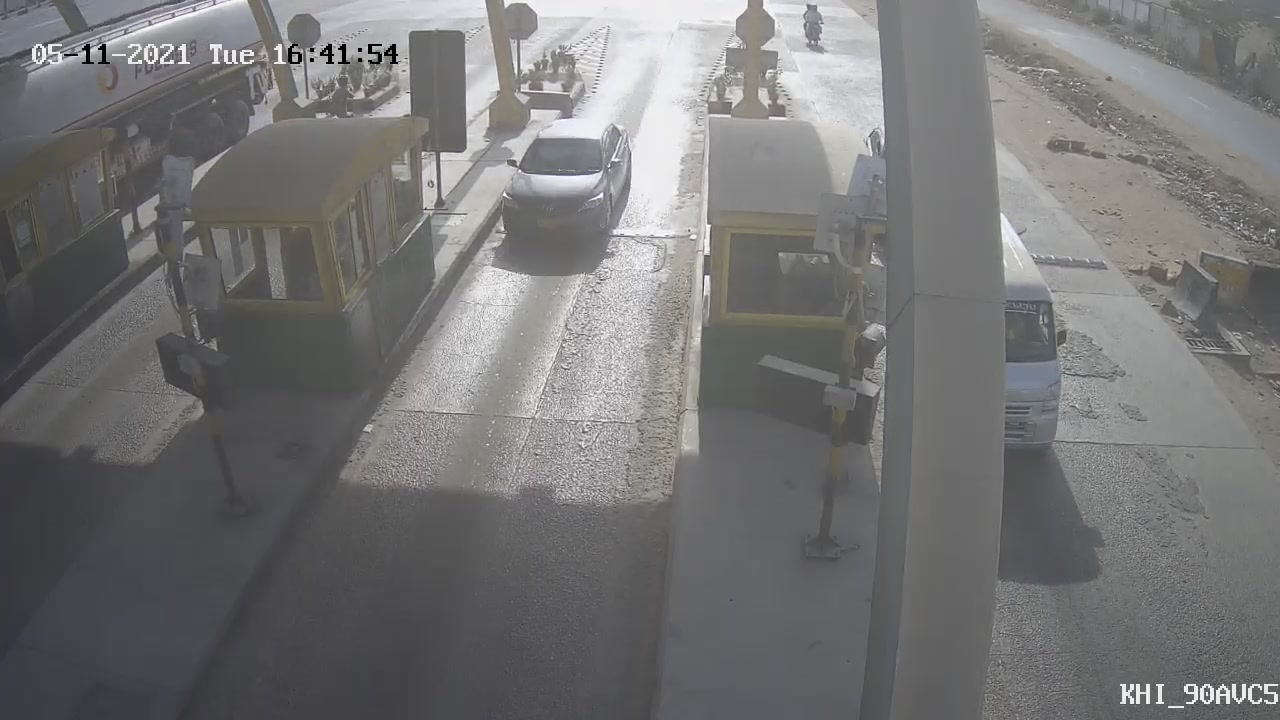F1: (486, 108, 643, 264)
